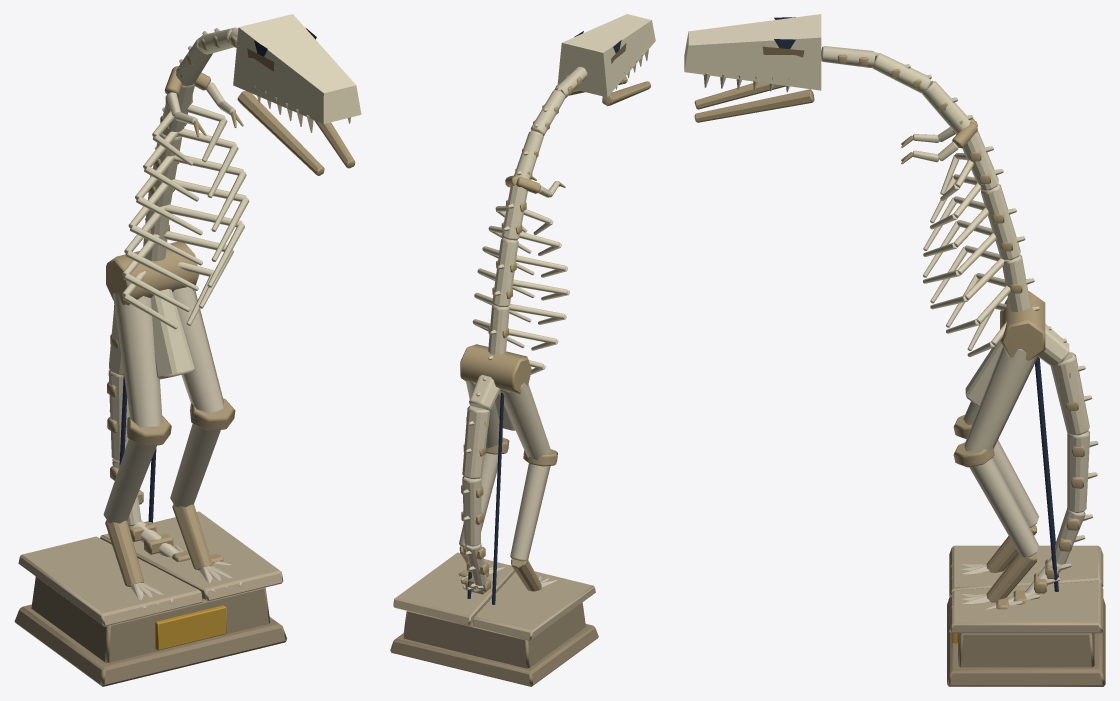
File: trex_fossil.glb
The picture shows the model from 3 angles, left to right: view 1: azimuth 30°, elevation 25°; view 2: azimuth 150°, elevation 25°; view 3: azimuth 270°, elevation 25°; orthographic projection. The views are drawn at different scales.
Parts seen in each view (by area): view 1: trex_fossil; view 2: trex_fossil; view 3: trex_fossil.
Part boxes in pixels (x1,y1,x2,y2): trex_fossil: [14, 14, 361, 686]; trex_fossil: [390, 14, 655, 686]; trex_fossil: [684, 14, 1105, 686].
Size of the model in its own units: 2 by 7.11 by 4.37.
